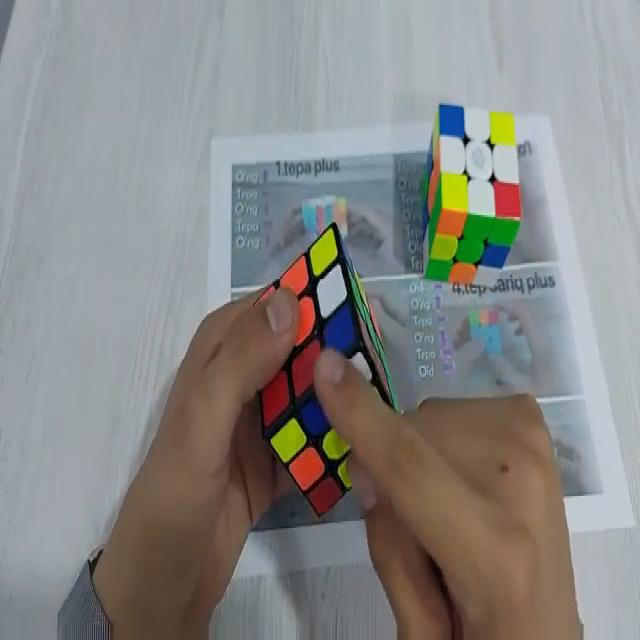Rub: (251, 220, 400, 520), (422, 100, 521, 291)
